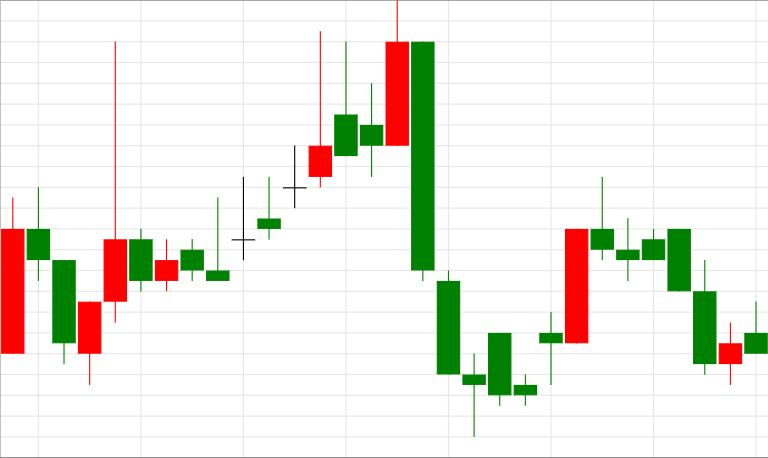shooting_star_fall: (206, 32, 331, 282), (489, 178, 614, 406)
